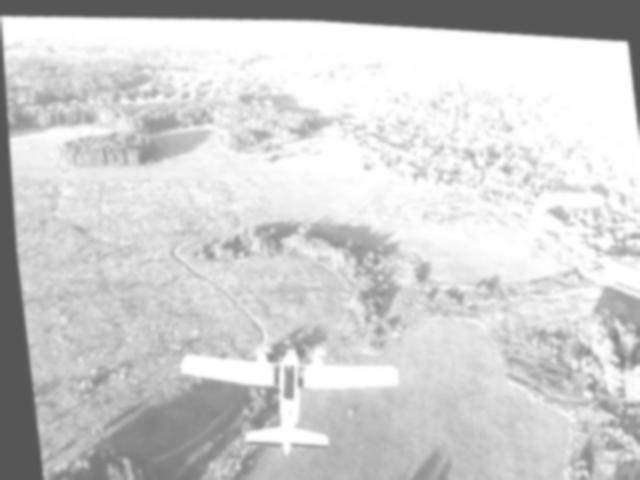hedef: (167, 317, 410, 467)
